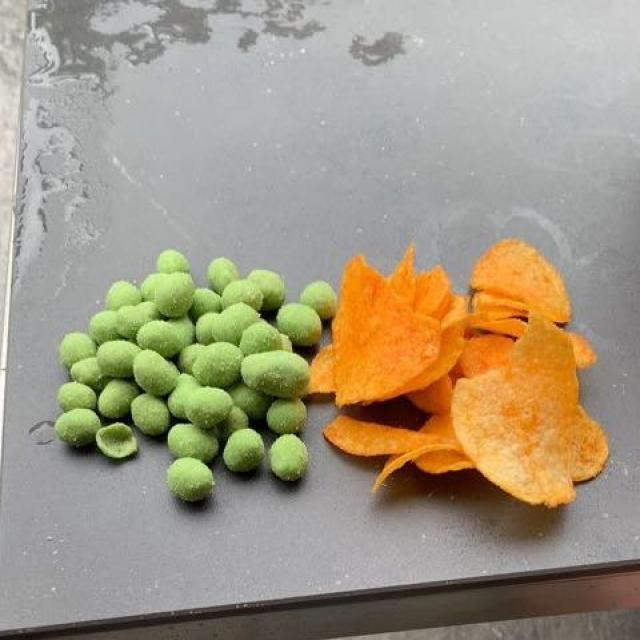chips: (319, 245, 628, 520), (315, 245, 606, 506)
